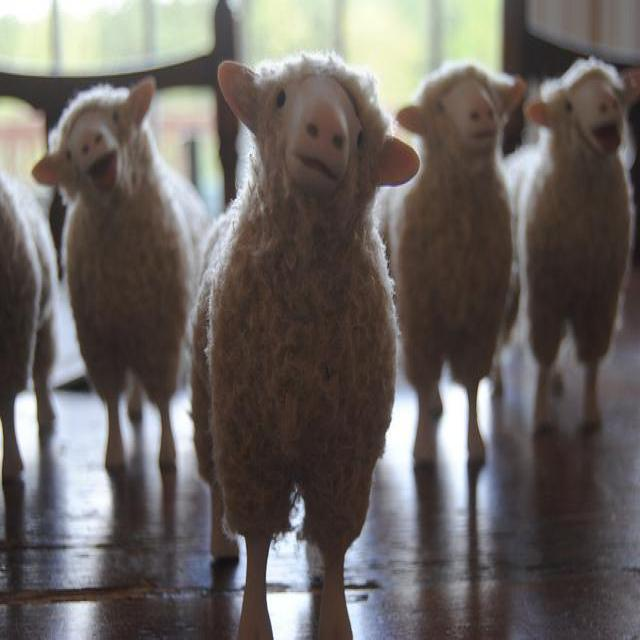Sheep: (189, 52, 423, 638), (33, 78, 214, 483), (481, 51, 639, 441), (381, 70, 530, 470), (0, 179, 61, 482)
